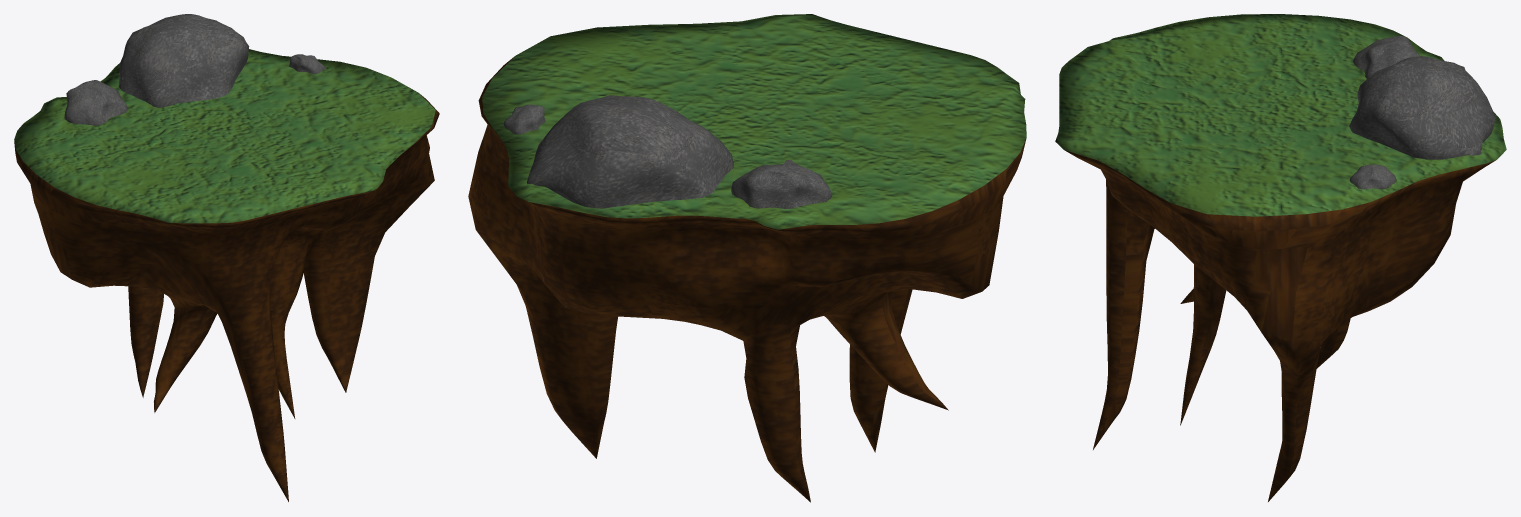
The model's file is ForestPlat1.FBX.
3 renders of one model, left to right at view 1: azimuth 30°, elevation 25°; view 2: azimuth 150°, elevation 25°; view 3: azimuth 270°, elevation 25°, orthographic. The views are drawn at different scales.
Visible parts, largest first — view 1: Box002, Sphere002, Sphere003, Sphere004; view 2: Box002, Sphere002, Sphere003, Sphere004; view 3: Box002, Sphere002, Sphere003, Sphere004.
Boxes of the visible parts, bbox=[...] form: Box002: bbox=[14, 49, 439, 501]; Sphere002: bbox=[118, 14, 249, 107]; Sphere003: bbox=[64, 80, 127, 125]; Sphere004: bbox=[289, 54, 325, 73]; Box002: bbox=[468, 14, 1026, 502]; Sphere002: bbox=[526, 95, 733, 208]; Sphere003: bbox=[731, 160, 831, 208]; Sphere004: bbox=[503, 104, 545, 134]; Box002: bbox=[1055, 14, 1506, 501]; Sphere002: bbox=[1349, 56, 1494, 159]; Sphere003: bbox=[1353, 36, 1419, 78]; Sphere004: bbox=[1349, 164, 1396, 189].
Bounding box in the file's own units: 72.5 × 64.28 × 64.51.
3 materials, 3 textured.
